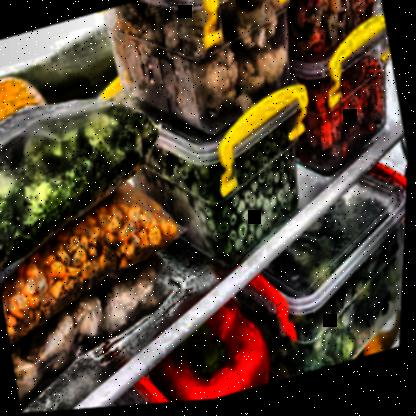broccoli: (0, 117, 149, 227)
corn: (18, 198, 163, 299)
peas: (187, 155, 300, 242)
red_bell_pepper: (165, 295, 278, 405)
